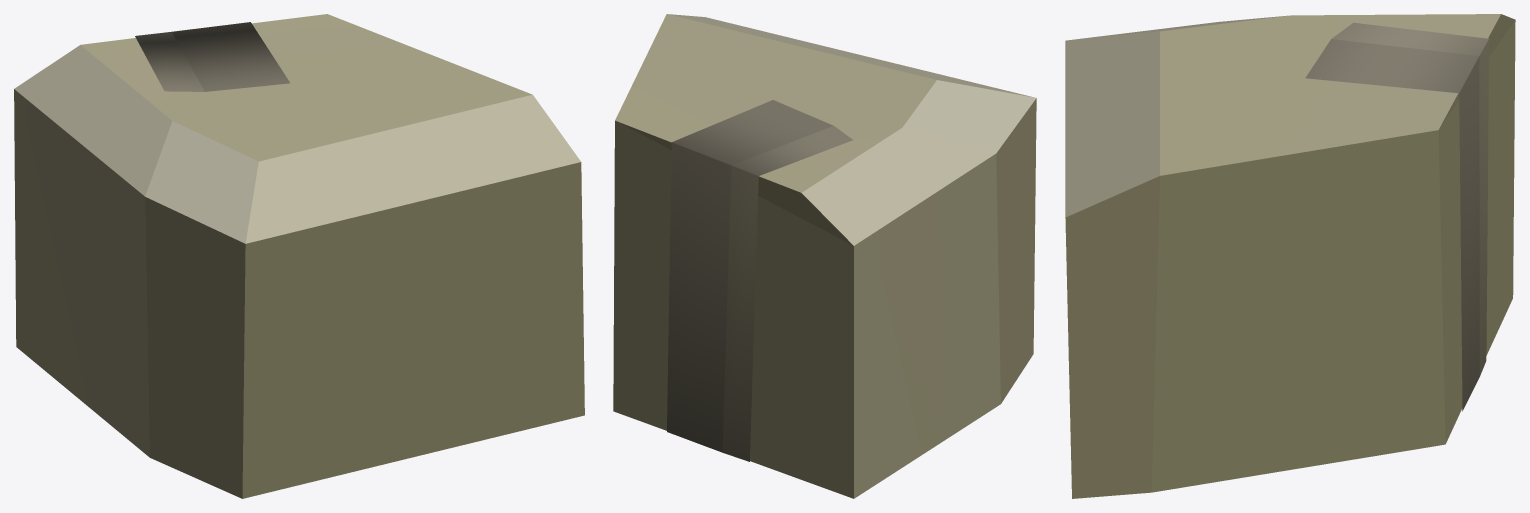
File: yetiStoneSlabPiece.glb
3 renders of one model, left to right at view 1: azimuth 30°, elevation 25°; view 2: azimuth 150°, elevation 25°; view 3: azimuth 270°, elevation 25°, orthographic. The views are drawn at different scales.
Visible parts, largest first — view 1: yetiStoneSlabPiece; view 2: yetiStoneSlabPiece; view 3: yetiStoneSlabPiece.
Part boxes in pixels (x1,y1,x2,y2): yetiStoneSlabPiece: (14,14,584,498); yetiStoneSlabPiece: (613,14,1036,498); yetiStoneSlabPiece: (1065,14,1515,498).
Bounding box in the file's own units: 0.2864 × 0.2211 × 0.2777.
